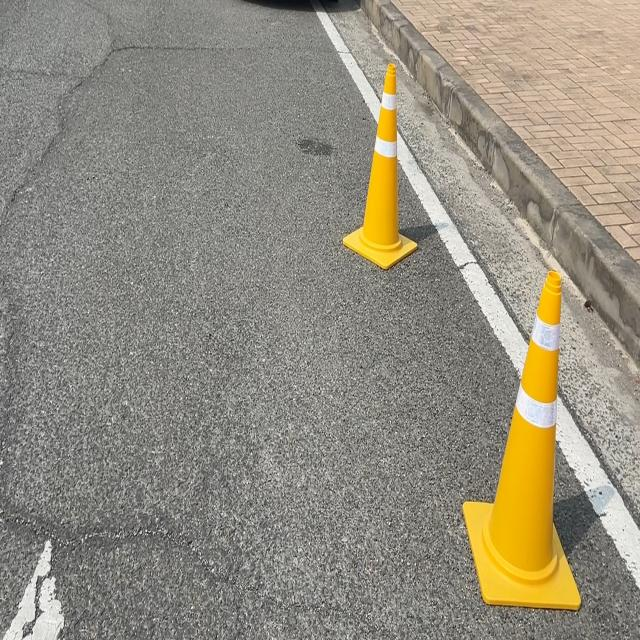y_rub: (464, 270, 582, 610), (343, 62, 418, 268)
